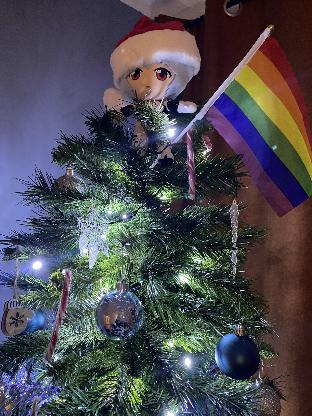rei-plush: (103, 52, 207, 116)
